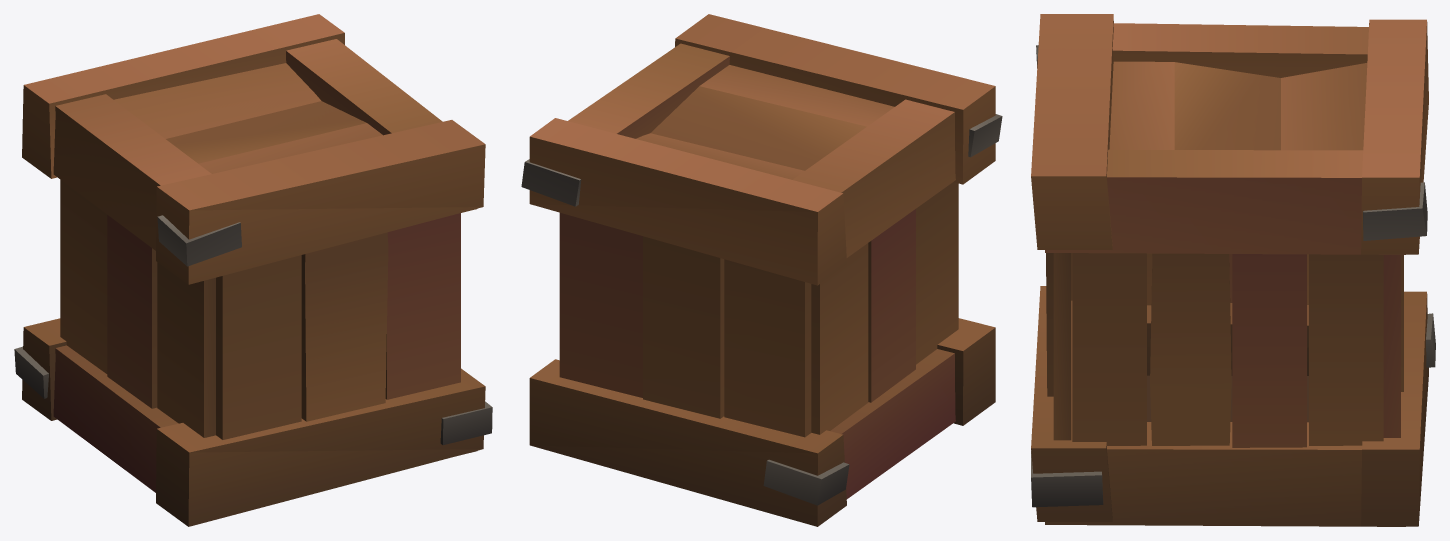
The model's file is R_Crate.fbx.
The picture shows the model from 3 angles, left to right: view 1: azimuth 30°, elevation 25°; view 2: azimuth 150°, elevation 25°; view 3: azimuth 270°, elevation 25°; orthographic projection. The views are drawn at different scales.
Parts seen in each view (by area): view 1: R_Crate.005; view 2: R_Crate.005; view 3: R_Crate.005.
Part boxes in pixels (x1,y1,x2,y2): R_Crate.005: [14, 14, 492, 526]; R_Crate.005: [521, 14, 1002, 526]; R_Crate.005: [1031, 14, 1435, 526].
Bounding box in the file's own units: 0.6631 × 0.65 × 0.6696.
